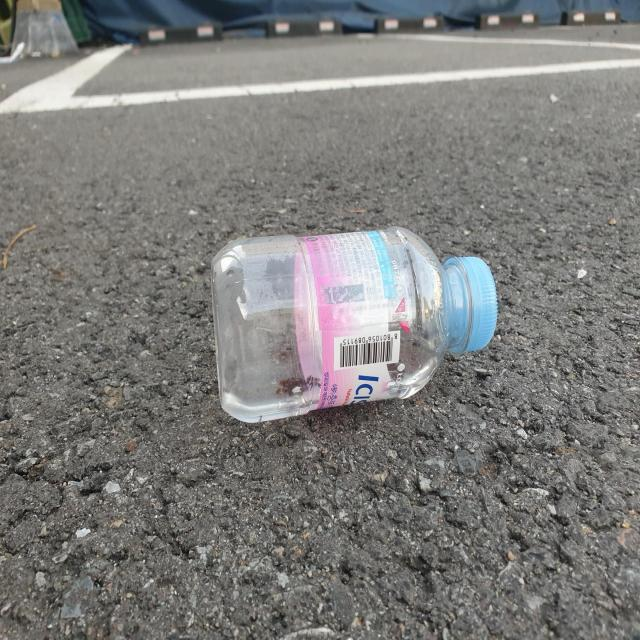plastic: (211, 226, 498, 422)
